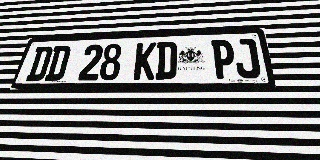2: (78, 44, 104, 81)
8: (98, 43, 123, 80)
D: (25, 46, 54, 81), (44, 45, 72, 81), (155, 41, 177, 80)
J: (233, 39, 262, 78)
K: (133, 42, 157, 80)
P: (211, 39, 237, 79)
